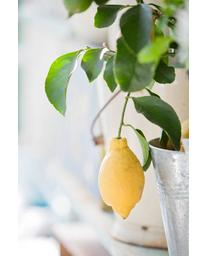lemon: (99, 137, 146, 219)
